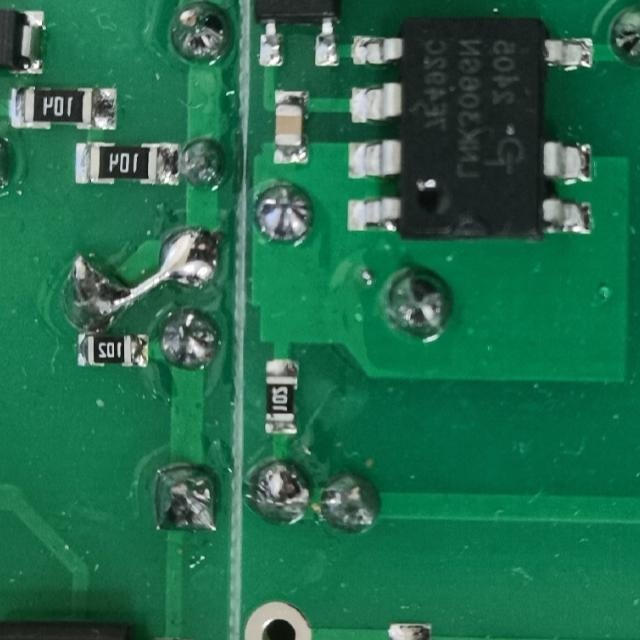chip-capacitor: (270, 86, 310, 165)
chip-resistor: (71, 141, 179, 186), (8, 86, 117, 130), (262, 356, 301, 437), (74, 332, 148, 368)
ic: (341, 9, 594, 238)
